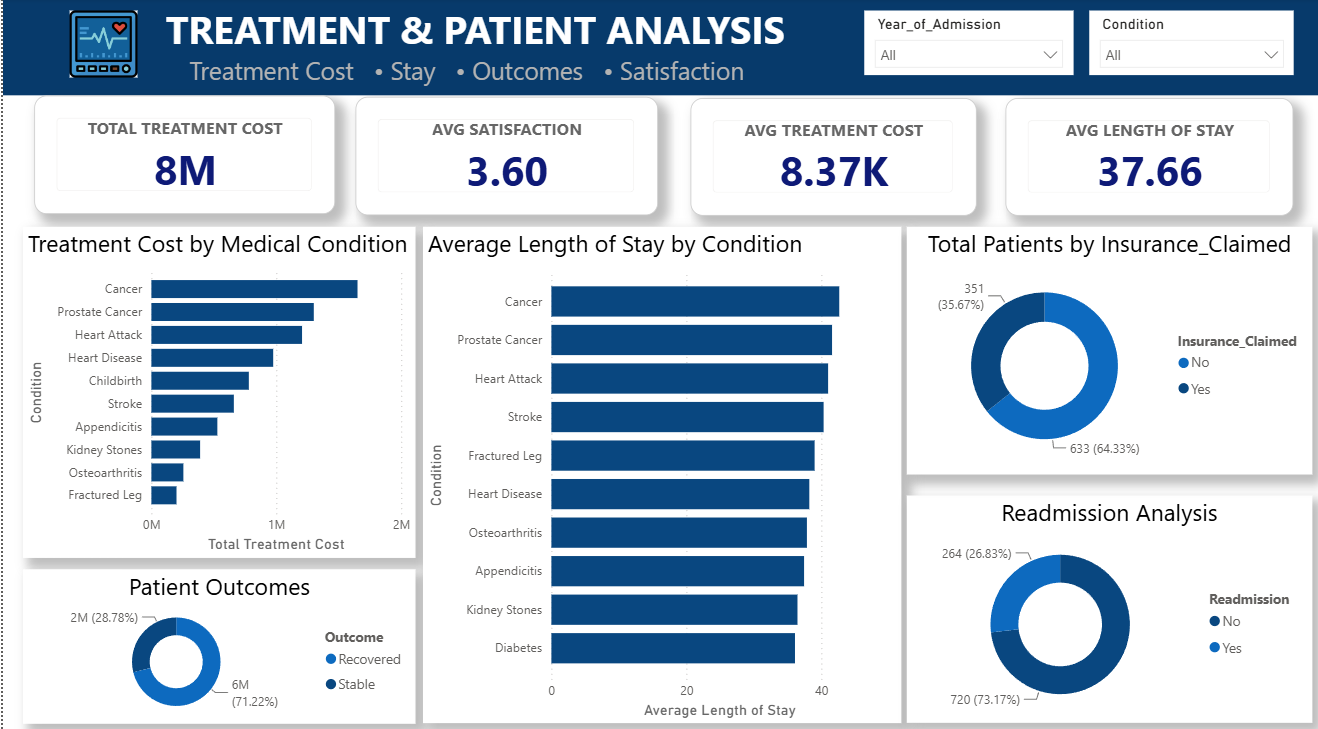

The page's visual inventory and layout, read from the dashboard file:
{"tool":"powerbi","page":{"name":"Treatment & Patient Analysis","canvas":[1290,720],"ordinal":1},"visuals":[{"type":"shape","box":[9.6,0,1270.7,87.8],"z":0},{"type":"textbox","box":[0,0,1290.3,95.4],"z":1000},{"type":"slicer","fields":{"Values":["hospital_patient_data_cleaned.Year_of_Admission"]},"box":[842.5,12.3,204.5,63.1],"z":2000},{"type":"slicer","fields":{"Values":["hospital_patient_data_cleaned.Condition"]},"box":[1062.1,12.3,200.3,63.1],"z":3000},{"type":"image","box":[19.2,12.3,157.8,65.9],"z":4000},{"type":"cardVisual","fields":{"Data":["Calculation.Average Length of Stay"]},"box":[981.1,97.4,281.3,115.3],"z":5000},{"type":"cardVisual","fields":{"Data":["Calculation.Average Treatment Cost"]},"box":[672.4,97.4,279.9,115.3],"z":6000},{"type":"cardVisual","fields":{"Data":["Calculation.Total Treatment Cost"]},"box":[30.4,95.4,294.6,116.2],"z":7000},{"type":"cardVisual","fields":{"Data":["Calculation.Average Satisfaction"]},"box":[344.4,96.8,295.9,116.2],"z":8000},{"type":"clusteredBarChart","title":"Treatment Cost by Medical Condition","fields":{"Category":["hospital_patient_data_cleaned.Condition"],"Y":["Calculation.Total Treatment Cost"]},"box":[19.2,223.7,384.2,323.8],"z":9000},{"type":"donutChart","title":"Patient Outcomes","fields":{"Category":["hospital_patient_data_cleaned.Outcome"],"Y":["Calculation.Total Treatment Cost"]},"box":[19.2,558.5,384.2,150.9],"z":10000},{"type":"clusteredBarChart","title":"Average Length of Stay by Condition","fields":{"Category":["hospital_patient_data_cleaned.Condition"],"Y":["Calculation.Average Length of Stay"]},"box":[410.3,223.7,467.9,485.8],"z":11000},{"type":"donutChart","title":"Readmission Analysis","fields":{"Category":["hospital_patient_data_cleaned.Readmission"],"Y":["Calculation.Total Patients"]},"box":[883.7,487.1,396.6,222.3],"z":12000},{"type":"donutChart","fields":{"Category":["hospital_patient_data_cleaned.Insurance_Claimed"],"Y":["Calculation.Total Patients"]},"box":[883.7,224,396.9,242],"z":13000}]}

Visuals, with their boxes in screenshot pixels (x1, y1, x2, y2), scaled from the page's 1290x720 canvas onto the 1318x729 screenshot:
shape: {"x1": 10, "y1": 0, "x2": 1308, "y2": 89}
textbox: {"x1": 0, "y1": 0, "x2": 1317, "y2": 97}
slicer - hospital_patient_data_cleaned.Year_of_Admission: {"x1": 861, "y1": 12, "x2": 1070, "y2": 76}
slicer - hospital_patient_data_cleaned.Condition: {"x1": 1085, "y1": 12, "x2": 1290, "y2": 76}
image: {"x1": 20, "y1": 12, "x2": 181, "y2": 79}
cardVisual - Calculation.Average Length of Stay: {"x1": 1002, "y1": 99, "x2": 1290, "y2": 215}
cardVisual - Calculation.Average Treatment Cost: {"x1": 687, "y1": 99, "x2": 973, "y2": 215}
cardVisual - Calculation.Total Treatment Cost: {"x1": 31, "y1": 97, "x2": 332, "y2": 214}
cardVisual - Calculation.Average Satisfaction: {"x1": 352, "y1": 98, "x2": 654, "y2": 216}
"Treatment Cost by Medical Condition" clusteredBarChart: {"x1": 20, "y1": 226, "x2": 412, "y2": 554}
"Patient Outcomes" donutChart: {"x1": 20, "y1": 565, "x2": 412, "y2": 718}
"Average Length of Stay by Condition" clusteredBarChart: {"x1": 419, "y1": 226, "x2": 897, "y2": 718}
"Readmission Analysis" donutChart: {"x1": 903, "y1": 493, "x2": 1308, "y2": 718}
donutChart - hospital_patient_data_cleaned.Insurance_Claimed x Calculation.Total Patients: {"x1": 903, "y1": 227, "x2": 1308, "y2": 472}
